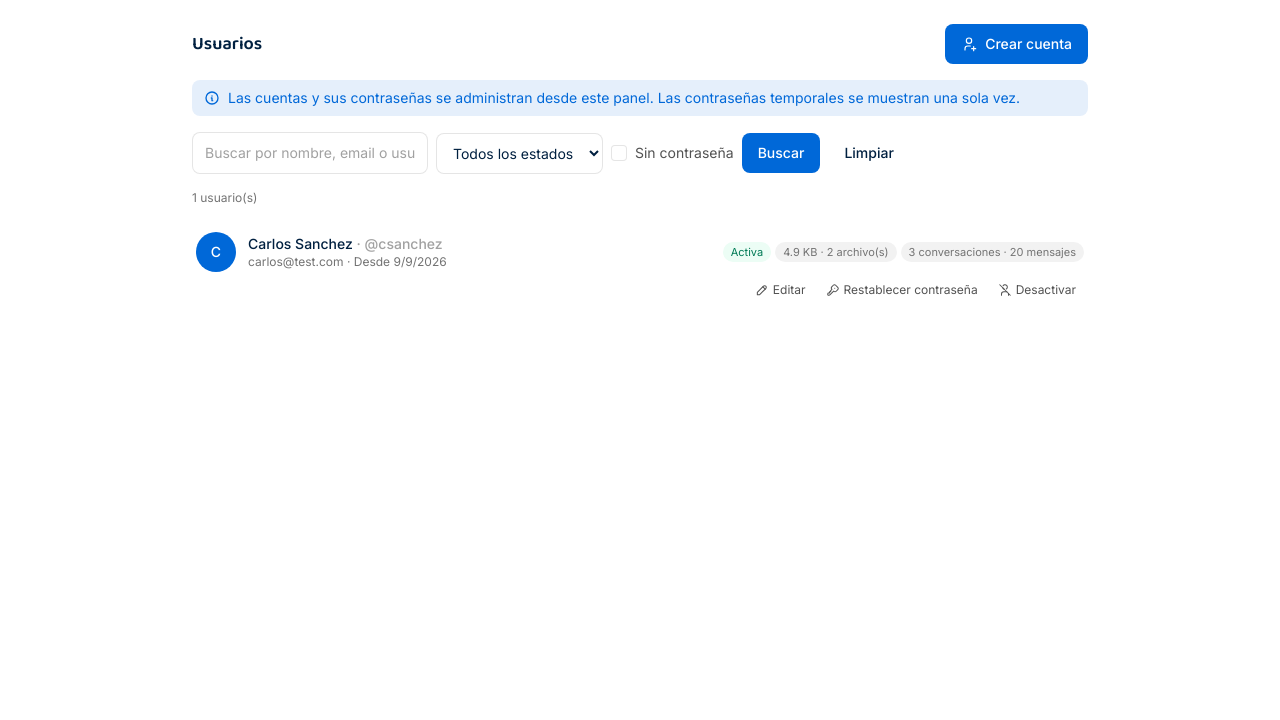
Test: AdminUsersPanel › con cuentas locales › resets a password after confirming and shows the temporary one
Click the button "Restablecer contraseña".
click(902, 290)  # box [818,278,986,302]
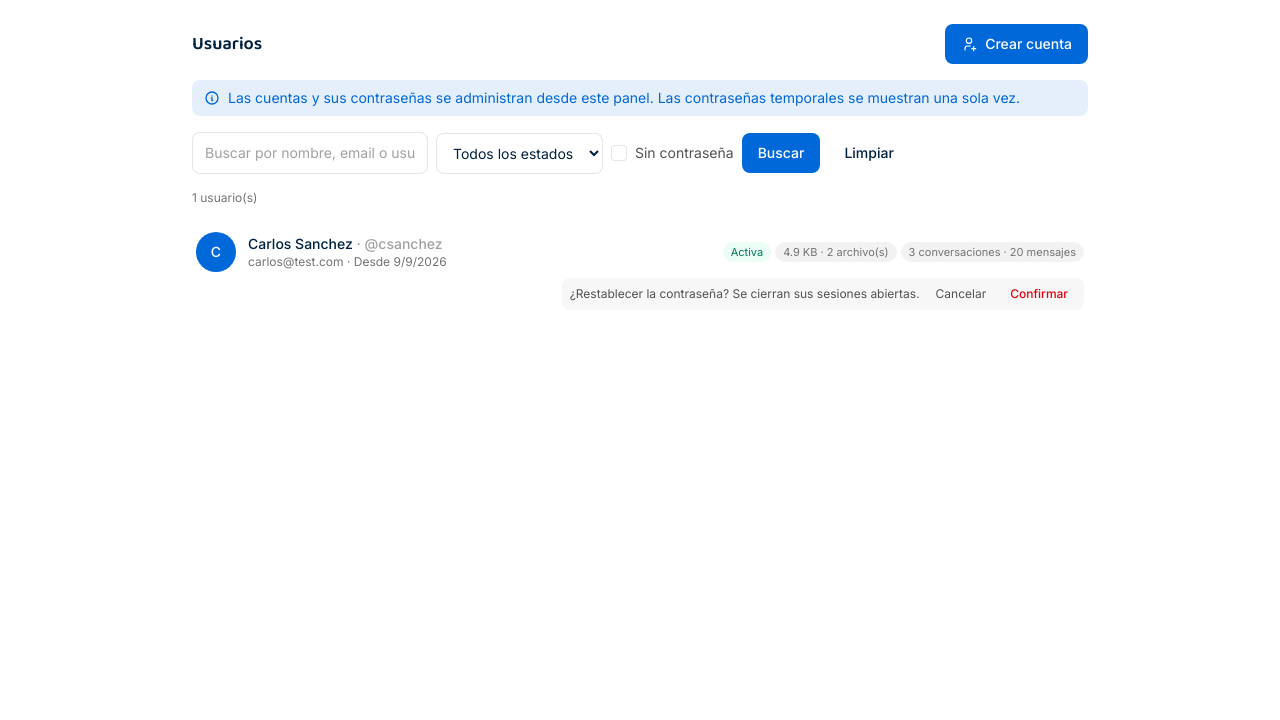
Expected: the text "Se cierran sus sesiones abiertas" is shown, [570,286,920,301]
Click the button "Confirmar".
click(1039, 294)  # box [1002,282,1076,306]
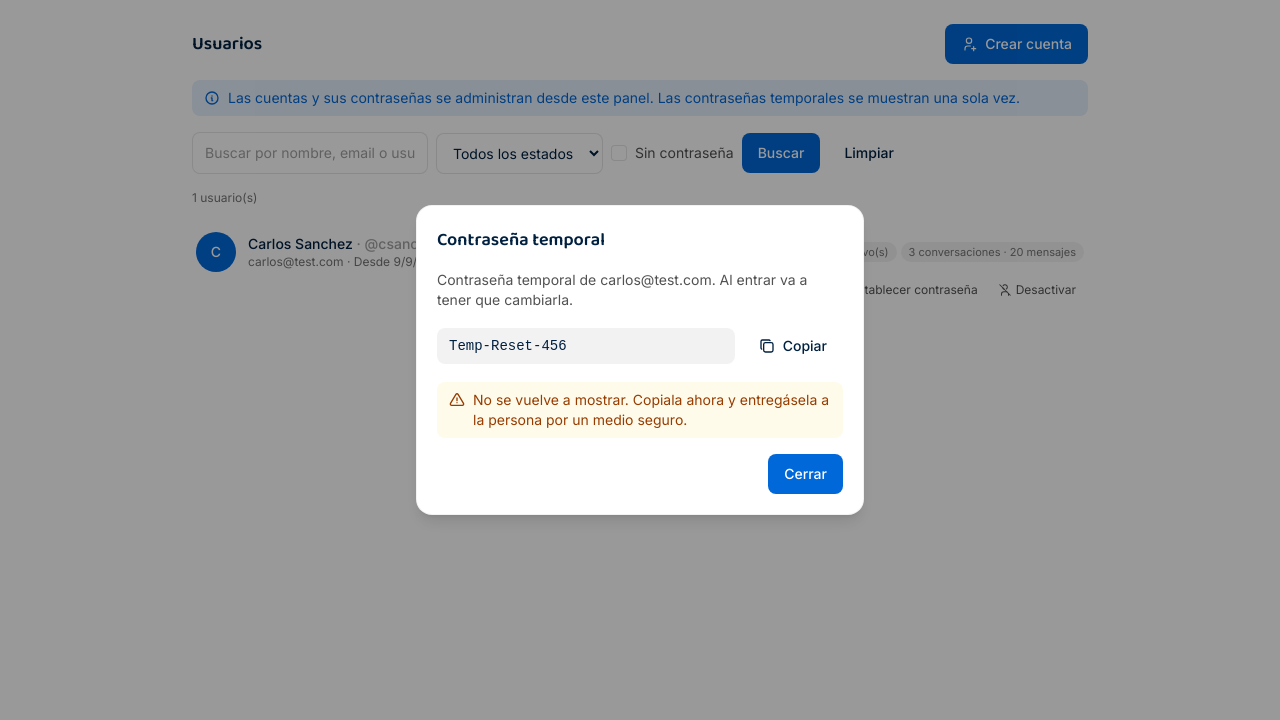
Expected: the text with test id "temporary-password" reads "Temp-Reset-456", [449,338,567,354]
Expected: the text "Contraseña temporal de carlos@test.com" is shown, [437,271,807,308]
